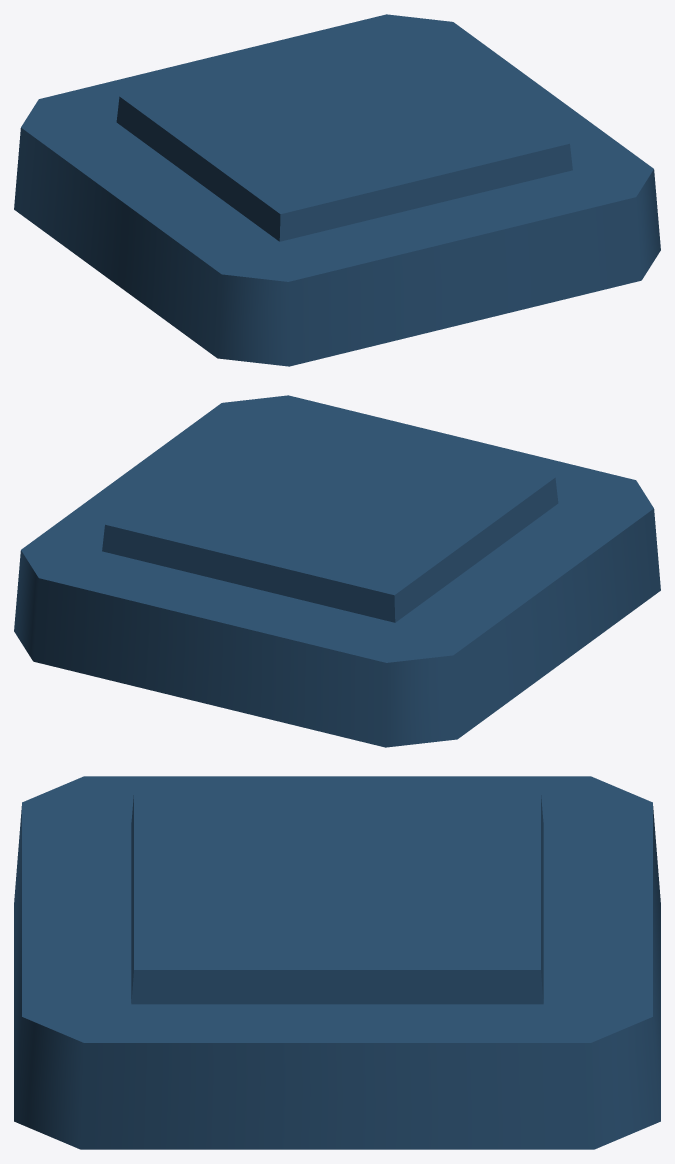
Rendered from Vent_2_C_1.fbx.
The picture shows the model from 3 angles, top to bottom: view 1: azimuth 30°, elevation 25°; view 2: azimuth 150°, elevation 25°; view 3: azimuth 270°, elevation 25°; orthographic projection. The views are drawn at different scales.
Visible parts, largest first — view 1: Vent_2_C_1; view 2: Vent_2_C_1; view 3: Vent_2_C_1.
Part boxes in pixels (x1,y1,x2,y2): Vent_2_C_1: (14,14,660,366); Vent_2_C_1: (14,395,660,747); Vent_2_C_1: (14,776,660,1149).
Size of the model in its own units: 56.66 by 13.19 by 56.66.
